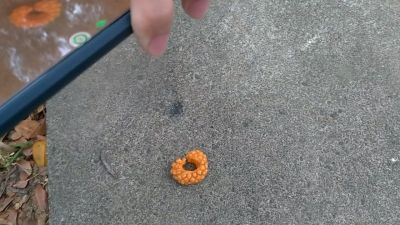eggs: (172, 148, 210, 185)
